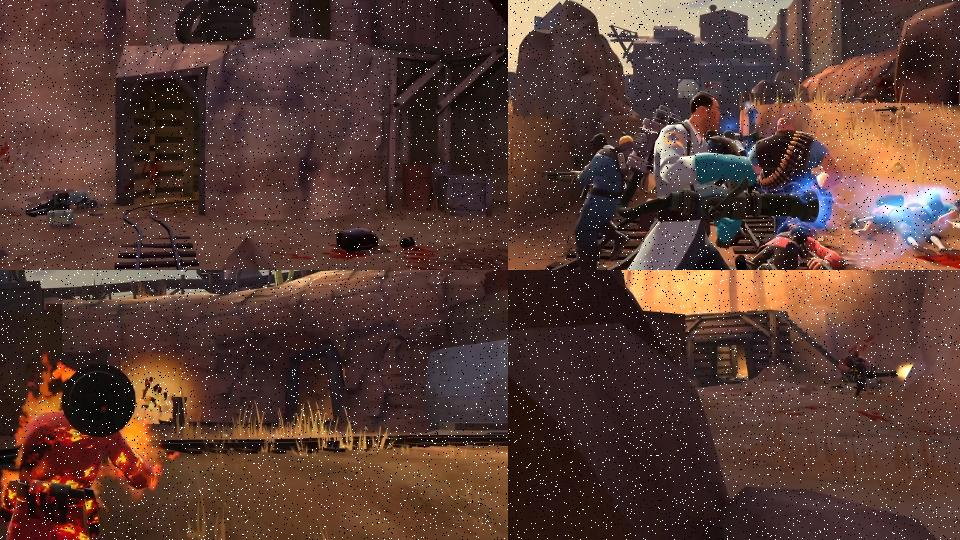Enemy: (560, 89, 819, 270), (1, 357, 166, 540), (542, 131, 629, 270), (748, 118, 843, 230), (849, 194, 960, 262), (731, 217, 842, 270), (838, 349, 897, 399), (904, 192, 960, 242), (25, 190, 98, 218)
